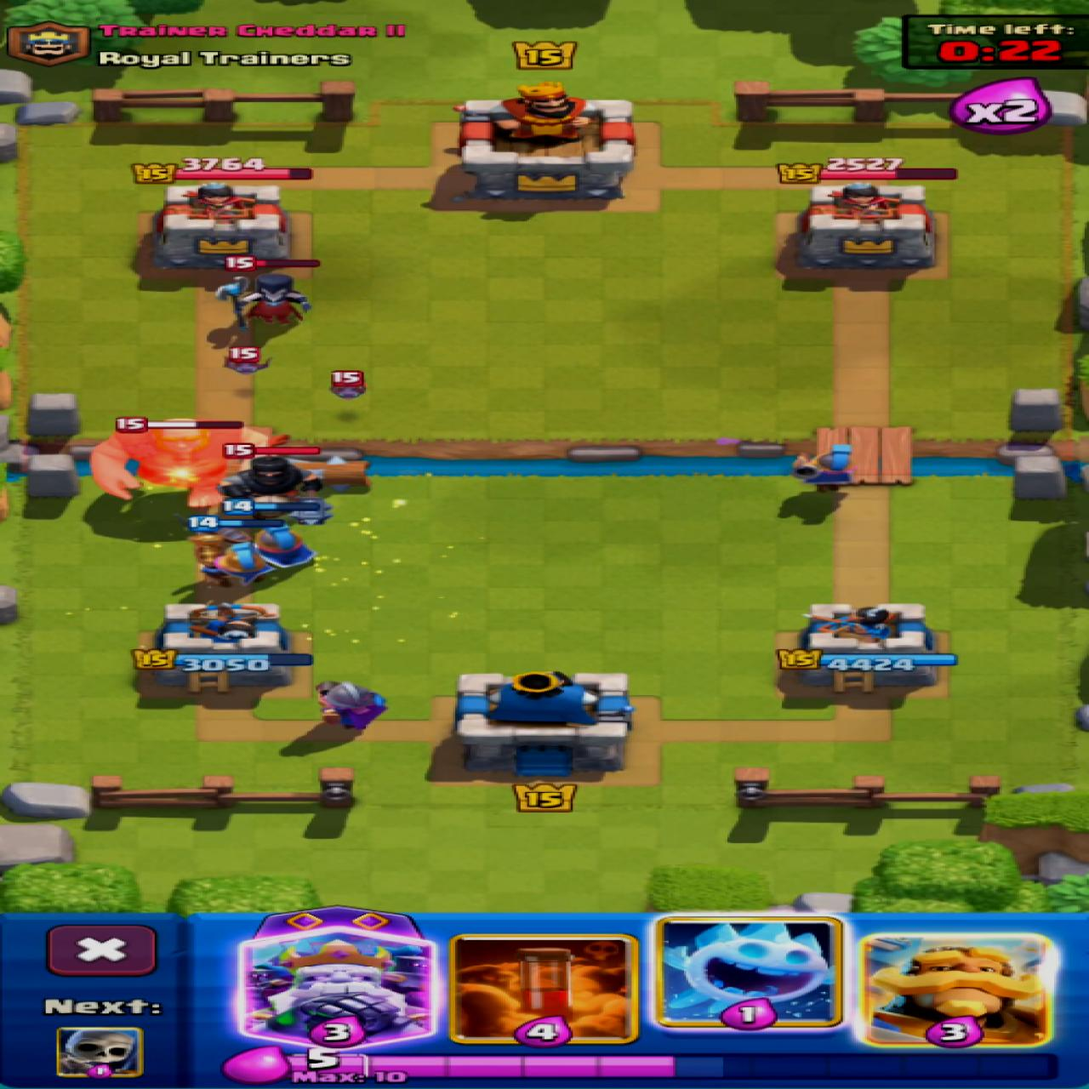Enemy-Bat: (224, 347, 266, 374), (331, 372, 366, 399)
Enemy-DarkPrince: (220, 456, 331, 525)
Enemy-Giant: (91, 420, 264, 506)
Enemy-KingTower: (457, 84, 634, 201)
Enemy-NightWitch: (216, 274, 309, 329)
Enemy-PrincessTower: (791, 182, 934, 278), (152, 182, 290, 267)
